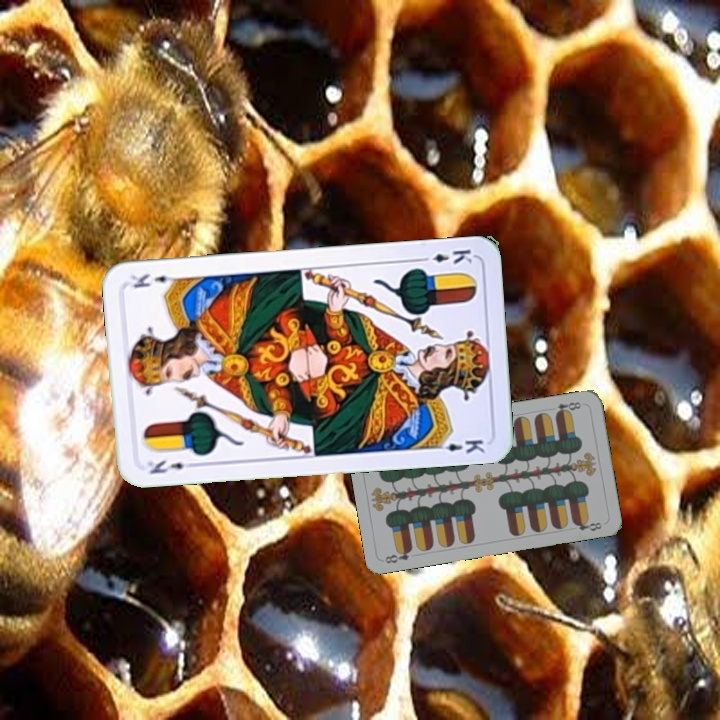E8: (381, 544, 415, 566), (551, 398, 584, 418)
EK: (415, 245, 475, 267), (143, 456, 199, 477)
